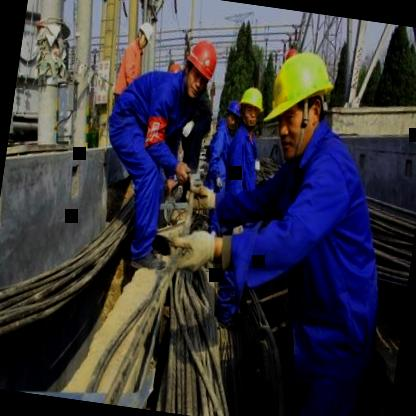helmet: (262, 42, 343, 161), (180, 35, 222, 102), (234, 84, 268, 132), (134, 16, 158, 54), (221, 95, 244, 132)
